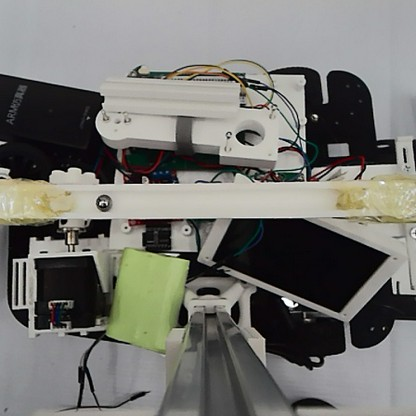ironball: (93, 191, 111, 212)
